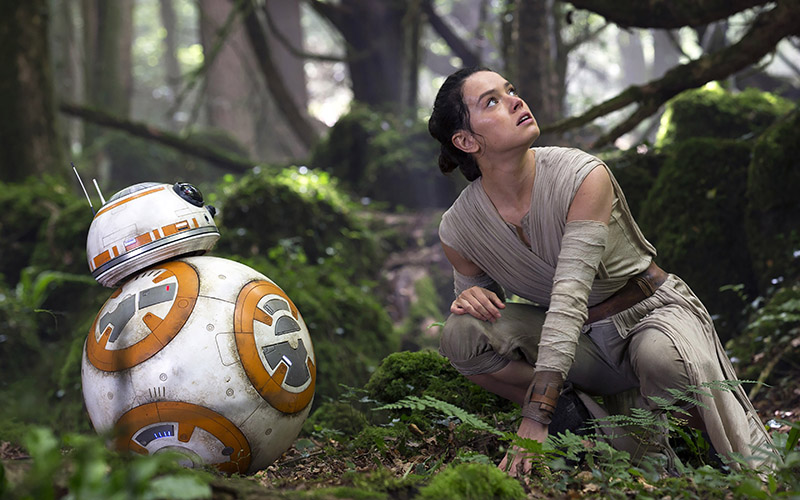bb8: (80, 182, 316, 478)
